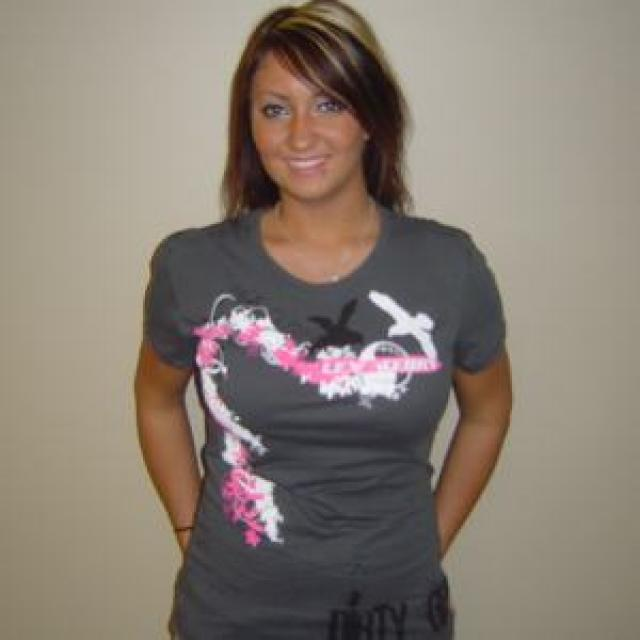T-shirt: (141, 192, 512, 640)
